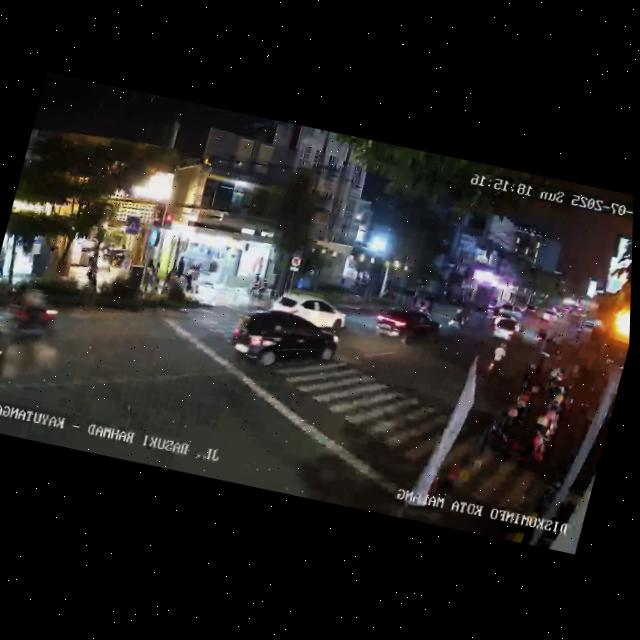car: (219, 299, 342, 384), (266, 286, 350, 337), (371, 299, 443, 352), (487, 311, 526, 345), (539, 307, 563, 325)
motorcycle: (0, 278, 64, 348), (482, 336, 511, 381), (449, 301, 473, 330)
person: (183, 263, 203, 297), (82, 254, 100, 287), (142, 258, 159, 288), (175, 254, 187, 277), (0, 248, 8, 278)
